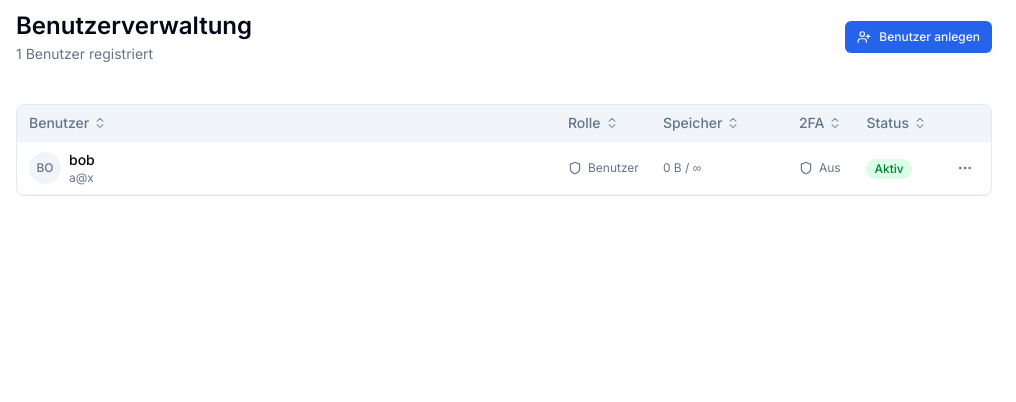
AdminPage — Rolle (via Aktionen-Menü) › zeigt eine Fehlermeldung, wenn eine Aktion fehlschlaegt
Click the button named "Aktionen" at (965, 168), box [951,154,979,182]
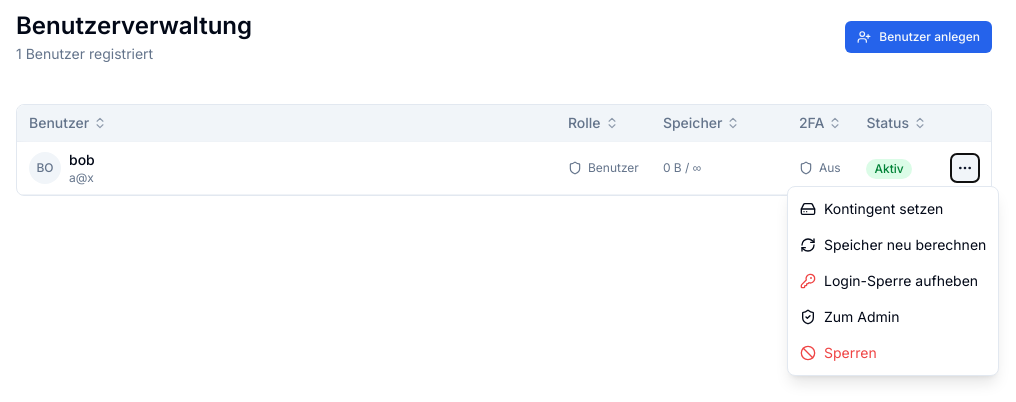
Click the menu item "Login-Sperre aufheben" at (893, 281), box [788,263,998,299]
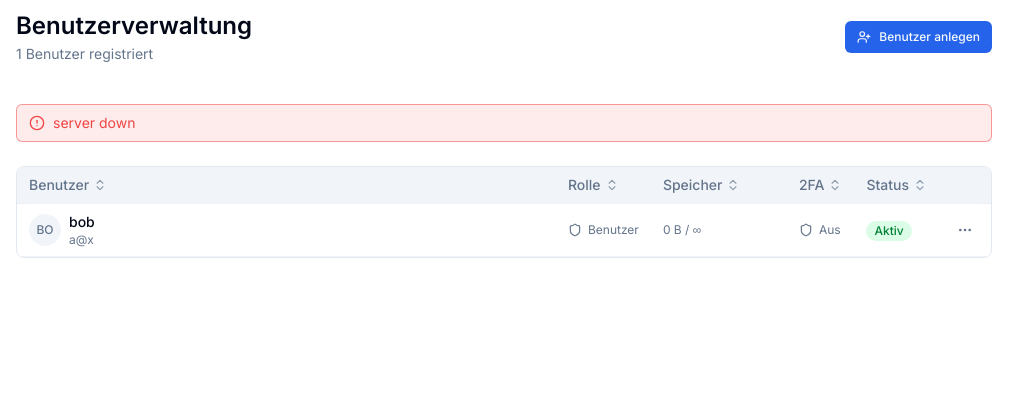
Check: the text "server down" is shown, box [16,104,992,142]
